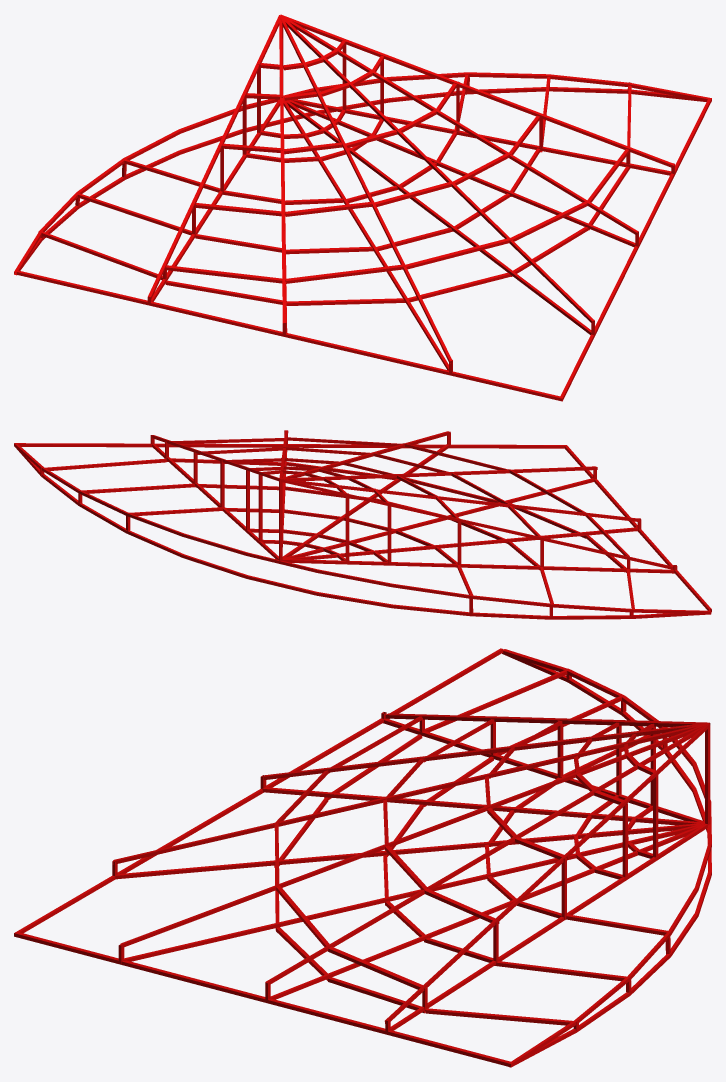
File: L1_Truss_A_merged_v003.fbx
3 views of the same model, one above another, from view 1: azimuth 30°, elevation 25°; view 2: azimuth 150°, elevation 25°; view 3: azimuth 270°, elevation 25° (orthographic). The views are drawn at different scales.
Parts seen in each view (by area): view 1: L1_Truss_A_geo; view 2: L1_Truss_A_geo; view 3: L1_Truss_A_geo.
Boxes of the visible parts, x1=… form: L1_Truss_A_geo: x1=14, y1=14, x2=711, y2=401; L1_Truss_A_geo: x1=14, y1=430, x2=711, y2=619; L1_Truss_A_geo: x1=14, y1=648, x2=711, y2=1067.
Bounding box in the file's own units: 8463 × 2043 × 5996.
